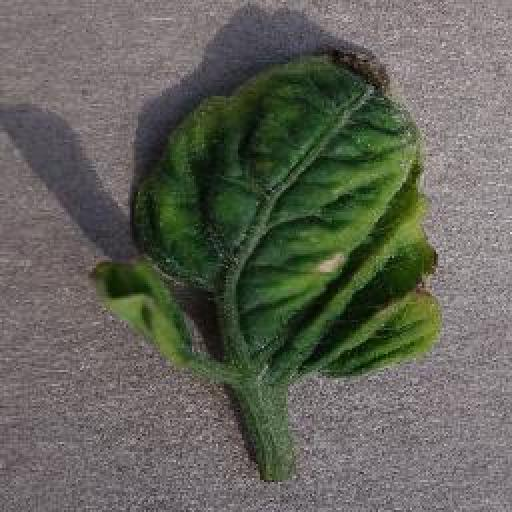Yellow Leaf Curl Virus: (90, 46, 446, 382)
